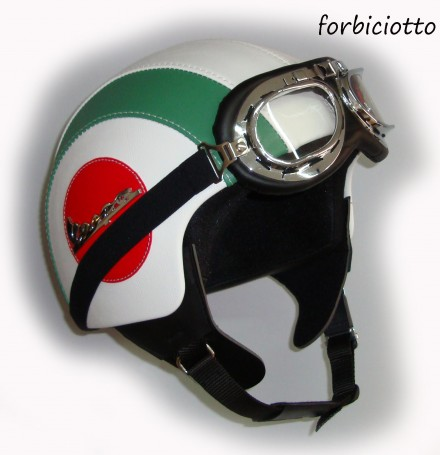helmet: (36, 48, 383, 330)
